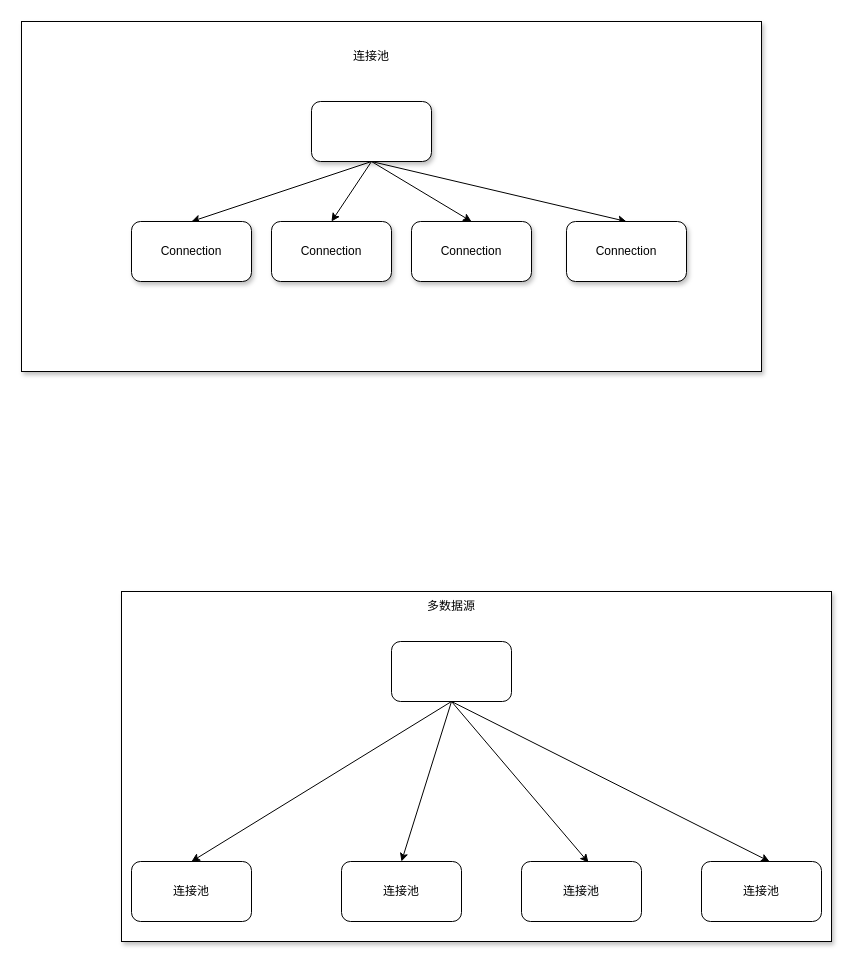
The diagram is 855 pixels wide and 966 high, and some of its shapes have lost their labels. Here are the shapes that lost their labels. From the top down, the centre of each, then its label:
At (x=372, y=132): "pool".
At (x=451, y=671): "route".
